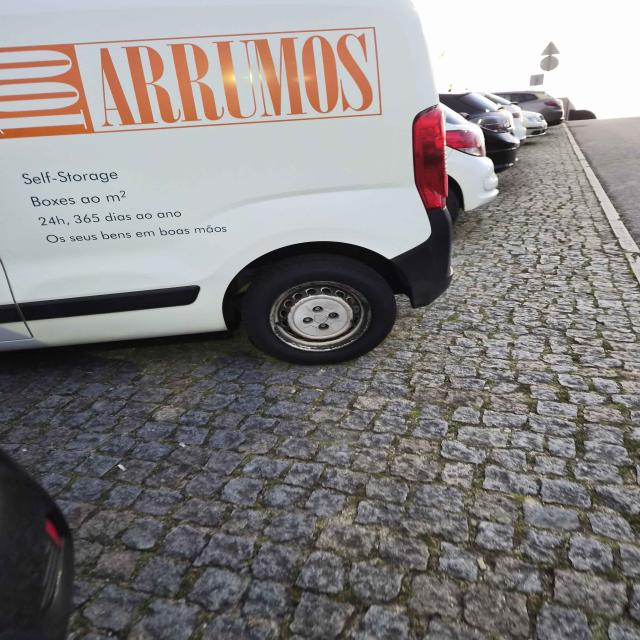jante: (269, 282, 372, 352)
parafuso: (301, 316, 315, 326), (311, 305, 325, 314), (319, 322, 330, 332), (327, 312, 340, 320)
roda: (240, 250, 400, 369)
